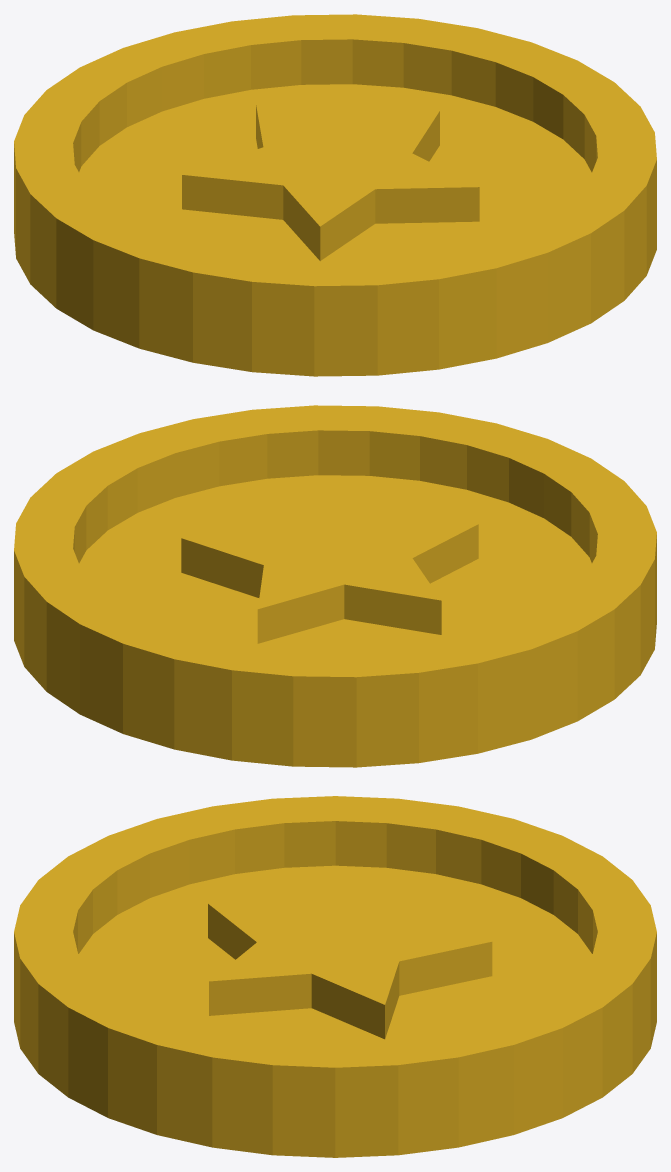
The model's file is coin.fbx.
3 renders of one model, top to bottom at view 1: azimuth 30°, elevation 25°; view 2: azimuth 150°, elevation 25°; view 3: azimuth 270°, elevation 25°, orthographic.
Parts seen in each view (by area): view 1: Coin; view 2: Coin; view 3: Coin.
Boxes of the visible parts, <box> form: Coin: <box>14,14,656,376</box>; Coin: <box>14,405,656,767</box>; Coin: <box>14,796,656,1157</box>.
Bounding box in the file's own units: 200 × 30.94 × 200.
